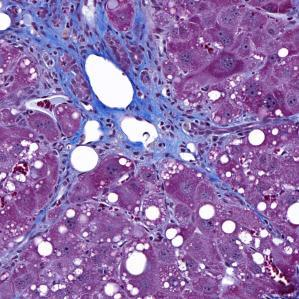fibrosis: (14, 3, 163, 80), (125, 97, 231, 173)
